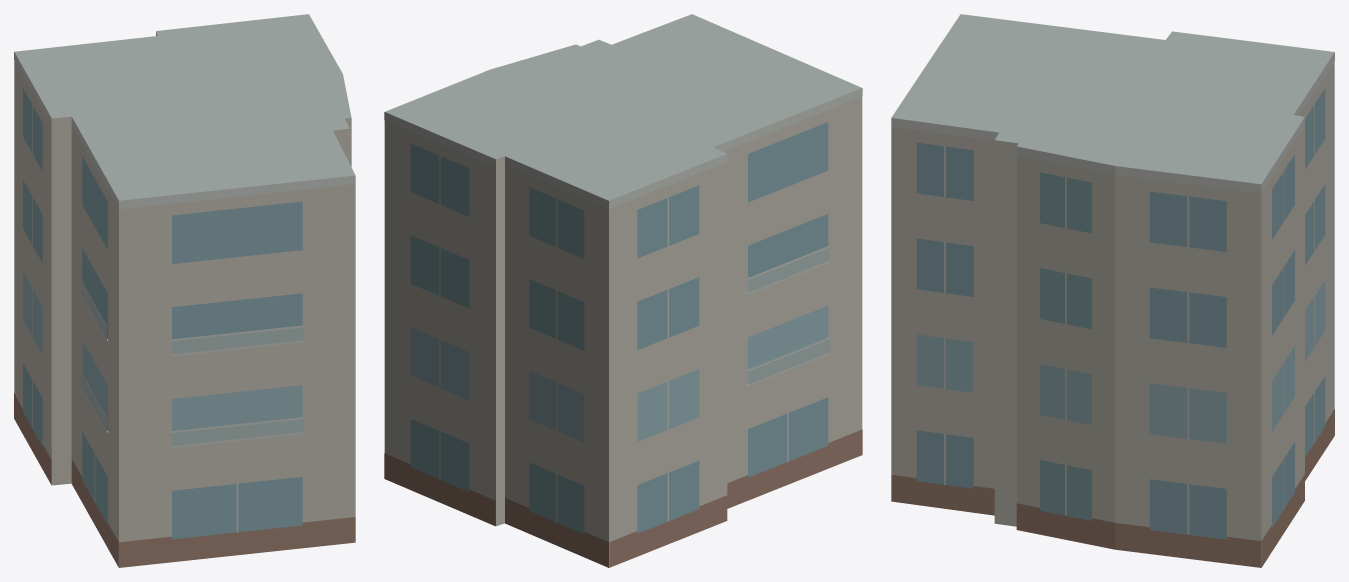
The model's file is survey-upis-32721643.glb.
3 renders of one model, left to right at view 1: azimuth 30°, elevation 25°; view 2: azimuth 150°, elevation 25°; view 3: azimuth 270°, elevation 25°, orthographic. The views are drawn at different scales.
Visible parts, largest first — view 1: survey-upis-32721643.tmp; view 2: survey-upis-32721643.tmp; view 3: survey-upis-32721643.tmp.
Part boxes in pixels (x1,y1,x2,y2): survey-upis-32721643.tmp: (14, 14, 355, 567); survey-upis-32721643.tmp: (384, 14, 862, 567); survey-upis-32721643.tmp: (891, 14, 1334, 567).
Bounding box in the file's own units: 10.05 × 10.55 × 11.07.
